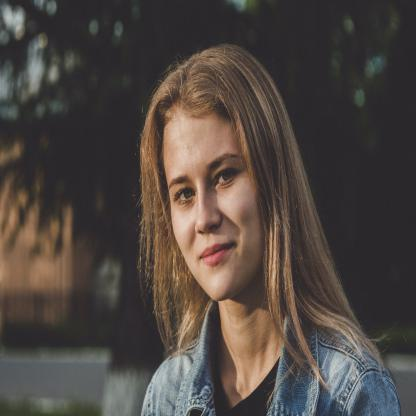Eye: (212, 161, 243, 190), (170, 183, 198, 205)
Mouth: (196, 236, 237, 273)
Nose: (197, 178, 222, 234)
